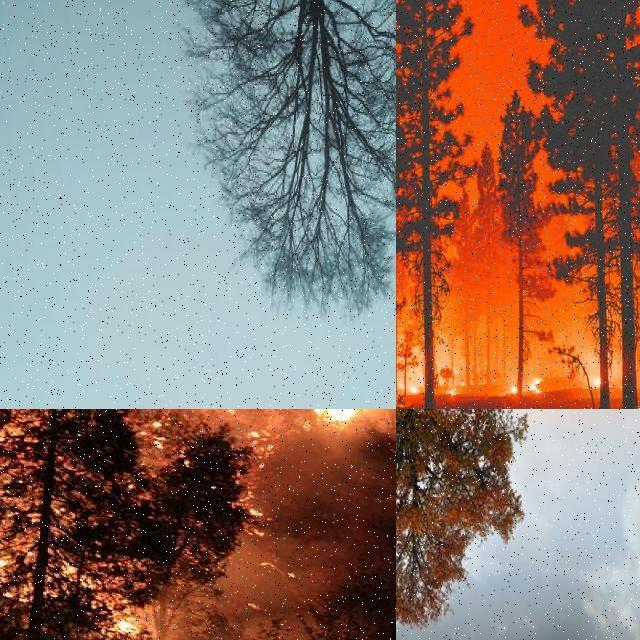tree: (188, 0, 396, 332), (516, 0, 640, 408), (522, 0, 618, 408), (396, 0, 472, 408), (396, 409, 528, 627), (0, 408, 146, 600), (126, 422, 256, 594), (396, 0, 448, 408), (396, 0, 444, 408), (496, 92, 548, 398), (469, 130, 506, 392), (396, 114, 424, 406), (396, 12, 416, 402), (148, 409, 248, 455), (397, 57, 408, 409), (396, 178, 412, 406), (396, 162, 404, 410), (396, 256, 408, 396), (396, 259, 408, 387)
